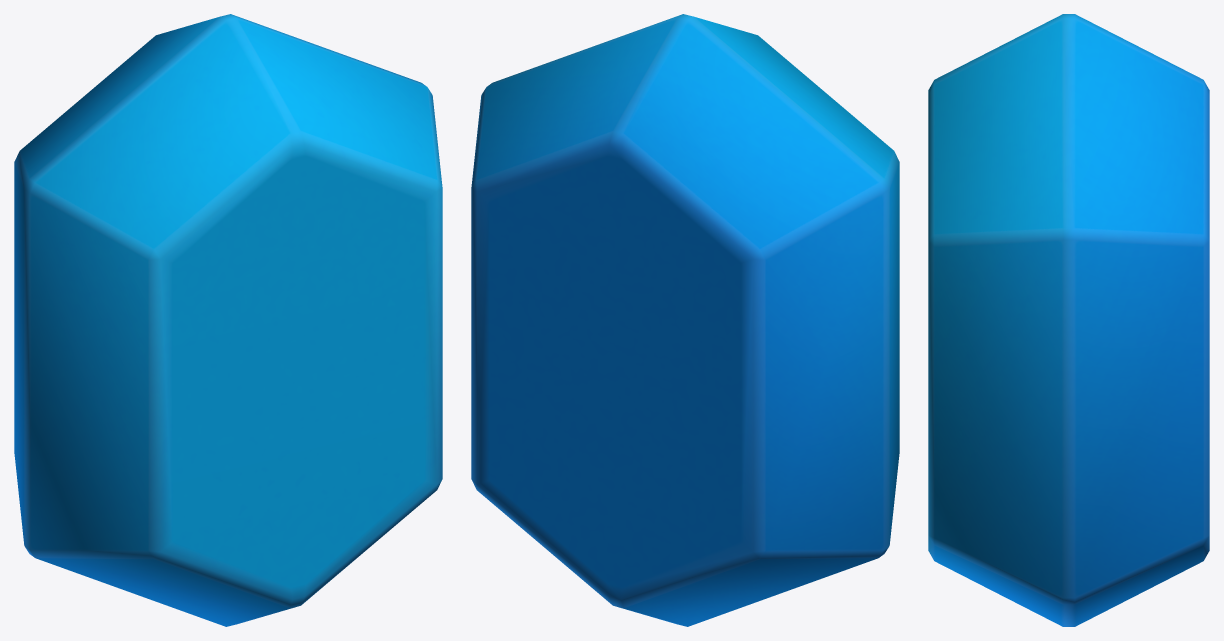
The model's file is Gem02_Blue.FBX.
3 views of the same model, side by side, from view 1: azimuth 30°, elevation 25°; view 2: azimuth 150°, elevation 25°; view 3: azimuth 270°, elevation 25° (orthographic).
Visible parts, largest first — view 1: Gem02_Blue; view 2: Gem02_Blue; view 3: Gem02_Blue.
Boxes of the visible parts, box(x1,y1,x2,y2) form: Gem02_Blue: box(14, 14, 442, 626); Gem02_Blue: box(471, 14, 899, 626); Gem02_Blue: box(928, 14, 1209, 626).
Size of the model in its own units: 46.56 by 67 by 28.13.
Materials: 1 (1 with a texture image).
